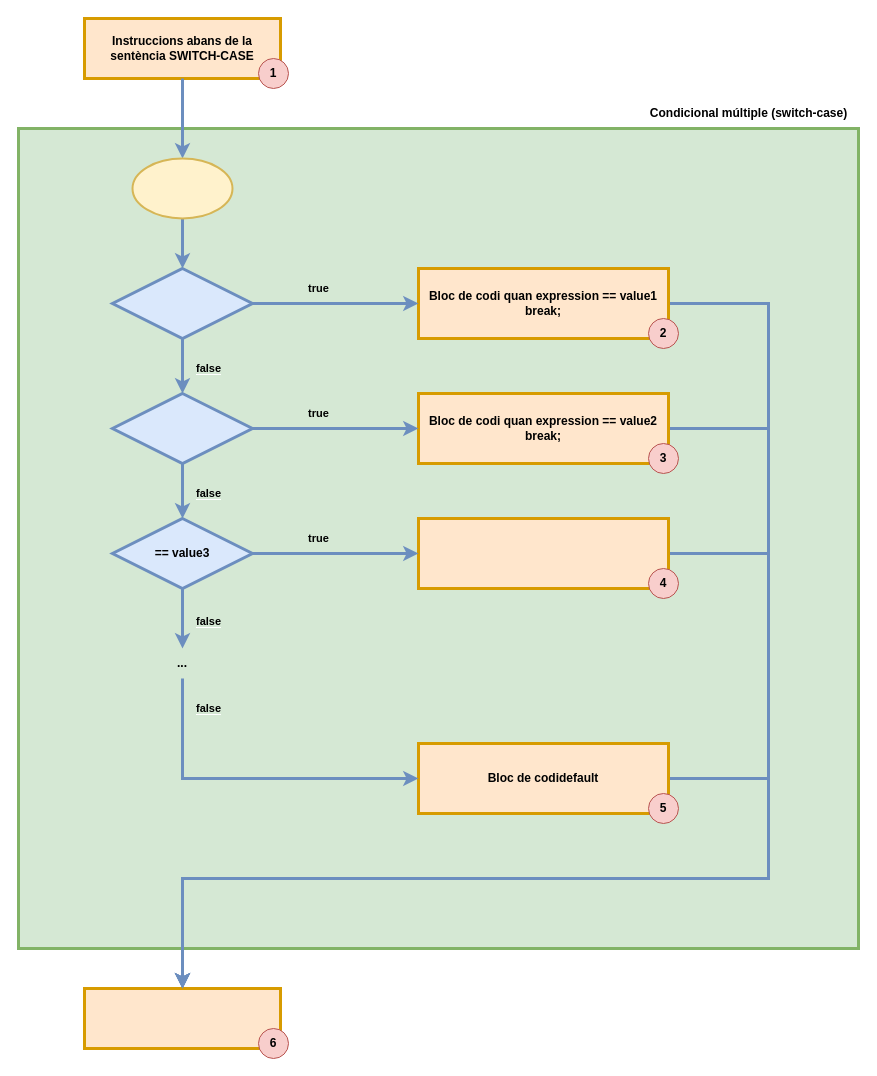
Image size: 877x1076. Some labels were removed from this diagram. The shapes that lost their labels are listed below. From the top down, each one's box as (x1, y1, x2, y2) in pixels, then its label:
(131, 157, 233, 219): expression
(110, 266, 254, 340): == value1
(110, 392, 254, 464): == value2
(416, 516, 670, 590): Bloc de codi quan expression == value3 break;
(82, 986, 282, 1050): Instruccions després de la sentència SWITCH-CASE
